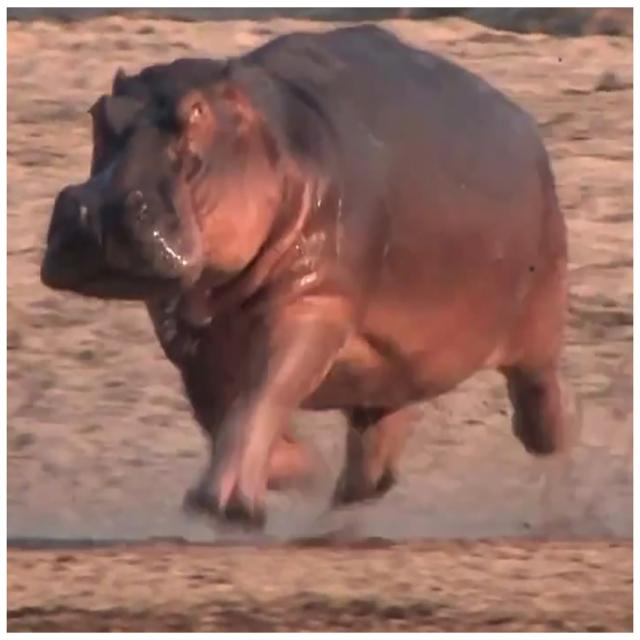Hippopotamus: (38, 27, 584, 529)
